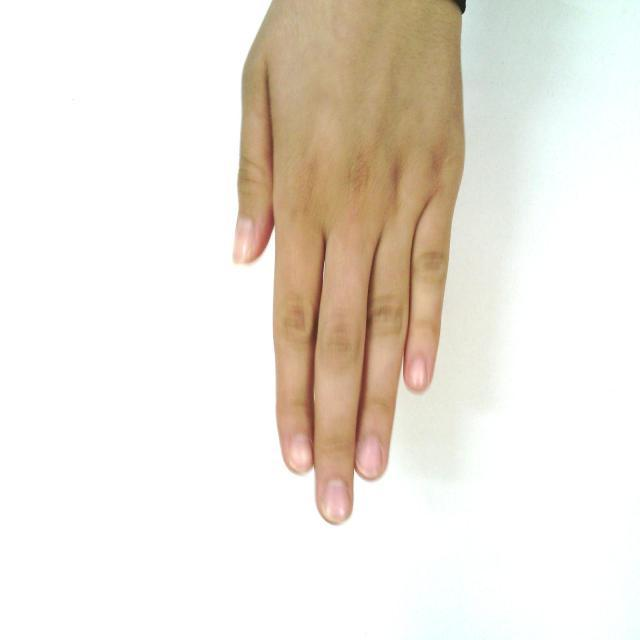Fingernail: (323, 479, 352, 524), (232, 217, 255, 263), (359, 436, 382, 479), (290, 434, 312, 475), (409, 357, 428, 390)
